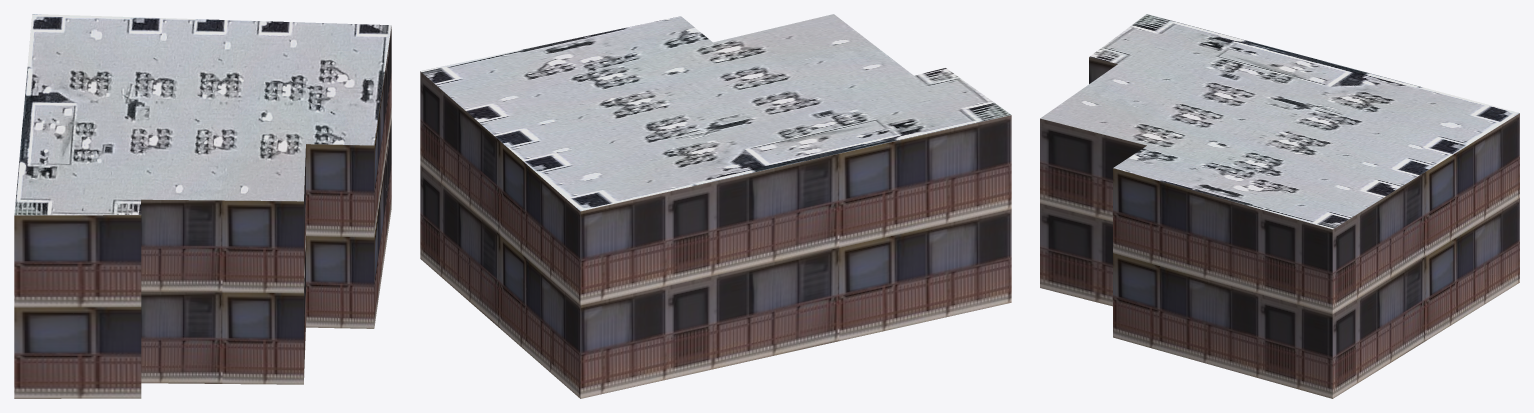
The model's file is ResTex__3360.fbx.
3 views of the same model, side by side, from view 1: azimuth 30°, elevation 25°; view 2: azimuth 150°, elevation 25°; view 3: azimuth 270°, elevation 25° (orthographic). The views are drawn at different scales.
Parts seen in each view (by area): view 1: CityEngineMaterial_6_m, CityEngineMaterial_2_m; view 2: CityEngineMaterial_6_m, CityEngineMaterial_2_m; view 3: CityEngineMaterial_6_m, CityEngineMaterial_2_m.
Part boxes in pixels (<box>): CityEngineMaterial_6_m: <box>14,27,391,398</box>; CityEngineMaterial_2_m: <box>14,14,391,215</box>; CityEngineMaterial_6_m: <box>420,71,1011,398</box>; CityEngineMaterial_2_m: <box>420,14,1010,211</box>; CityEngineMaterial_6_m: <box>1040,57,1519,398</box>; CityEngineMaterial_2_m: <box>1040,14,1519,229</box>.
Bounding box in the file's own units: 16.35 × 6 × 15.39.
2 materials, 2 textured.
